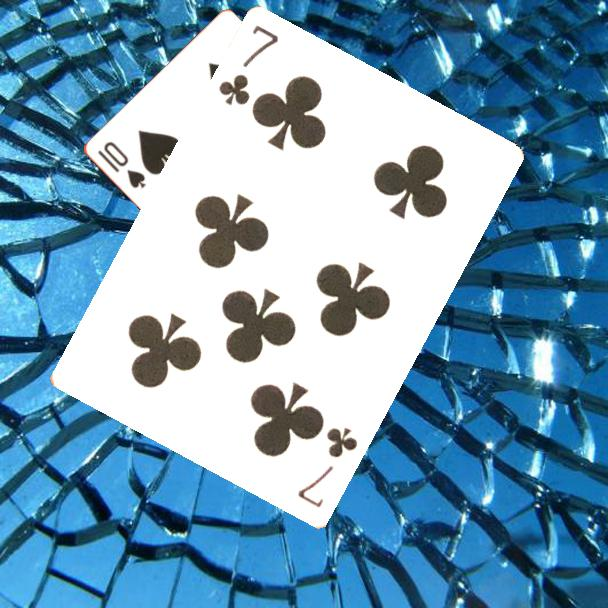c07: (294, 424, 361, 512), (215, 22, 282, 110)
s10: (94, 138, 148, 191)
